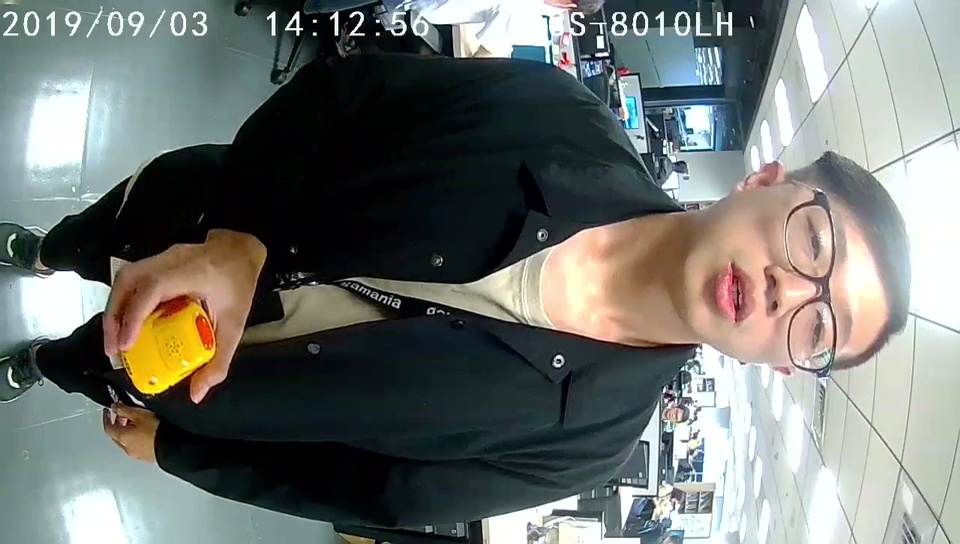car: (122, 296, 218, 394)
